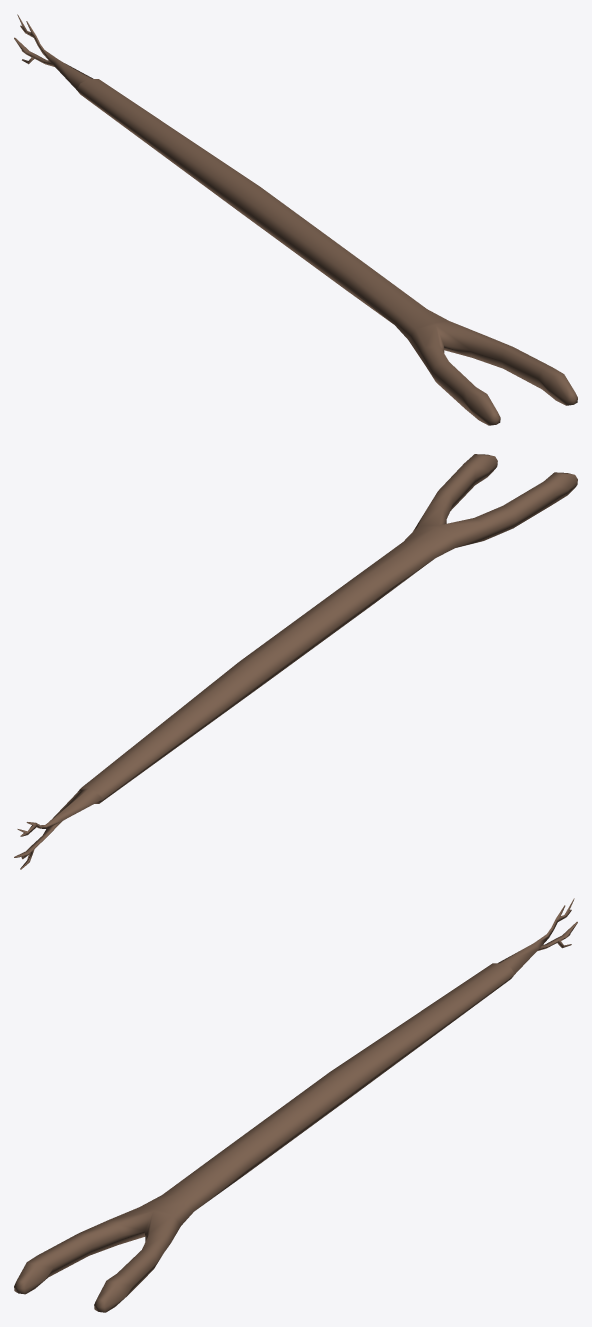
File: snake.fbx
3 renders of one model, top to bottom at view 1: azimuth 30°, elevation 25°; view 2: azimuth 150°, elevation 25°; view 3: azimuth 330°, elevation 25°, orthographic.
Visible parts, largest first — view 1: snake_Mesh_001; view 2: snake_Mesh_001; view 3: snake_Mesh_001.
Boxes of the visible parts, left/top/right/bottom form: snake_Mesh_001: left=14, top=14, right=577, bottom=425; snake_Mesh_001: left=14, top=454, right=577, bottom=869; snake_Mesh_001: left=14, top=898, right=577, bottom=1312.
Bounding box in the file's own units: 35.93 × 15.09 × 323.
